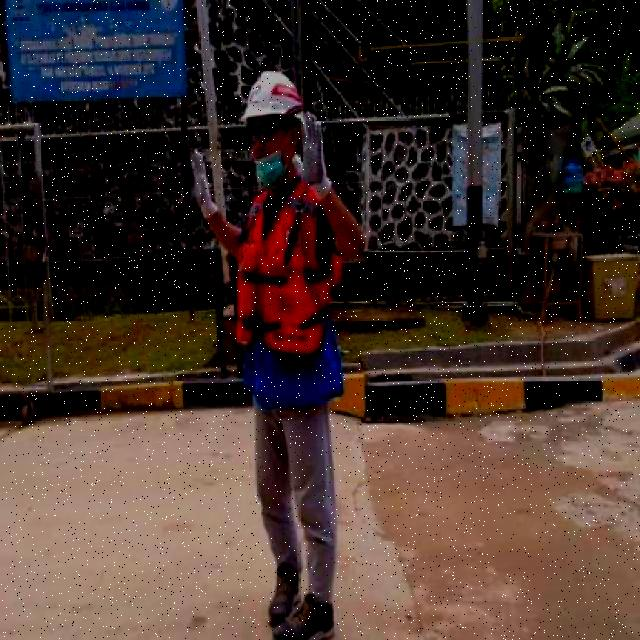Boots: (271, 592, 337, 640), (265, 558, 301, 624)
Gloves: (289, 109, 329, 200), (181, 147, 221, 226)
Helmet: (237, 66, 303, 122)
Mask: (231, 186, 337, 400)
